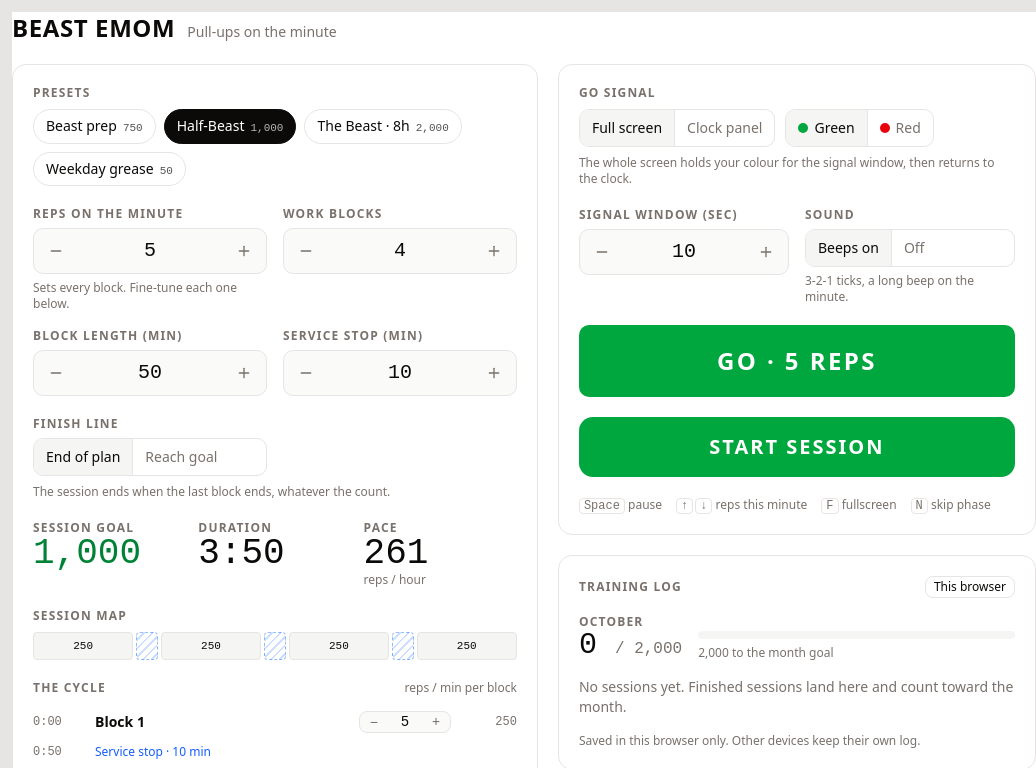
EmomTracker › updates the goal and duration when a preset is chosen
Step 1. Click the button "The Beast · 8h 2,000" → (383, 126), box [304, 109, 462, 144]
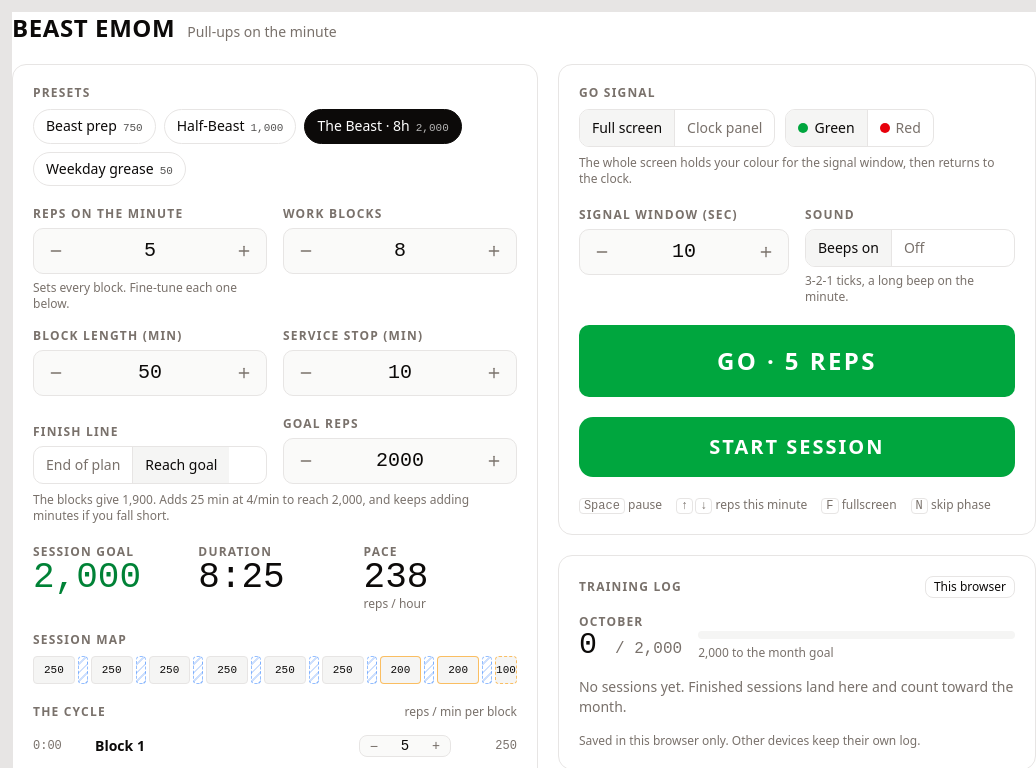
Expected: the text "Adds 25 min at 4/min to reach 2,000" is shown, [33, 491, 469, 524]
